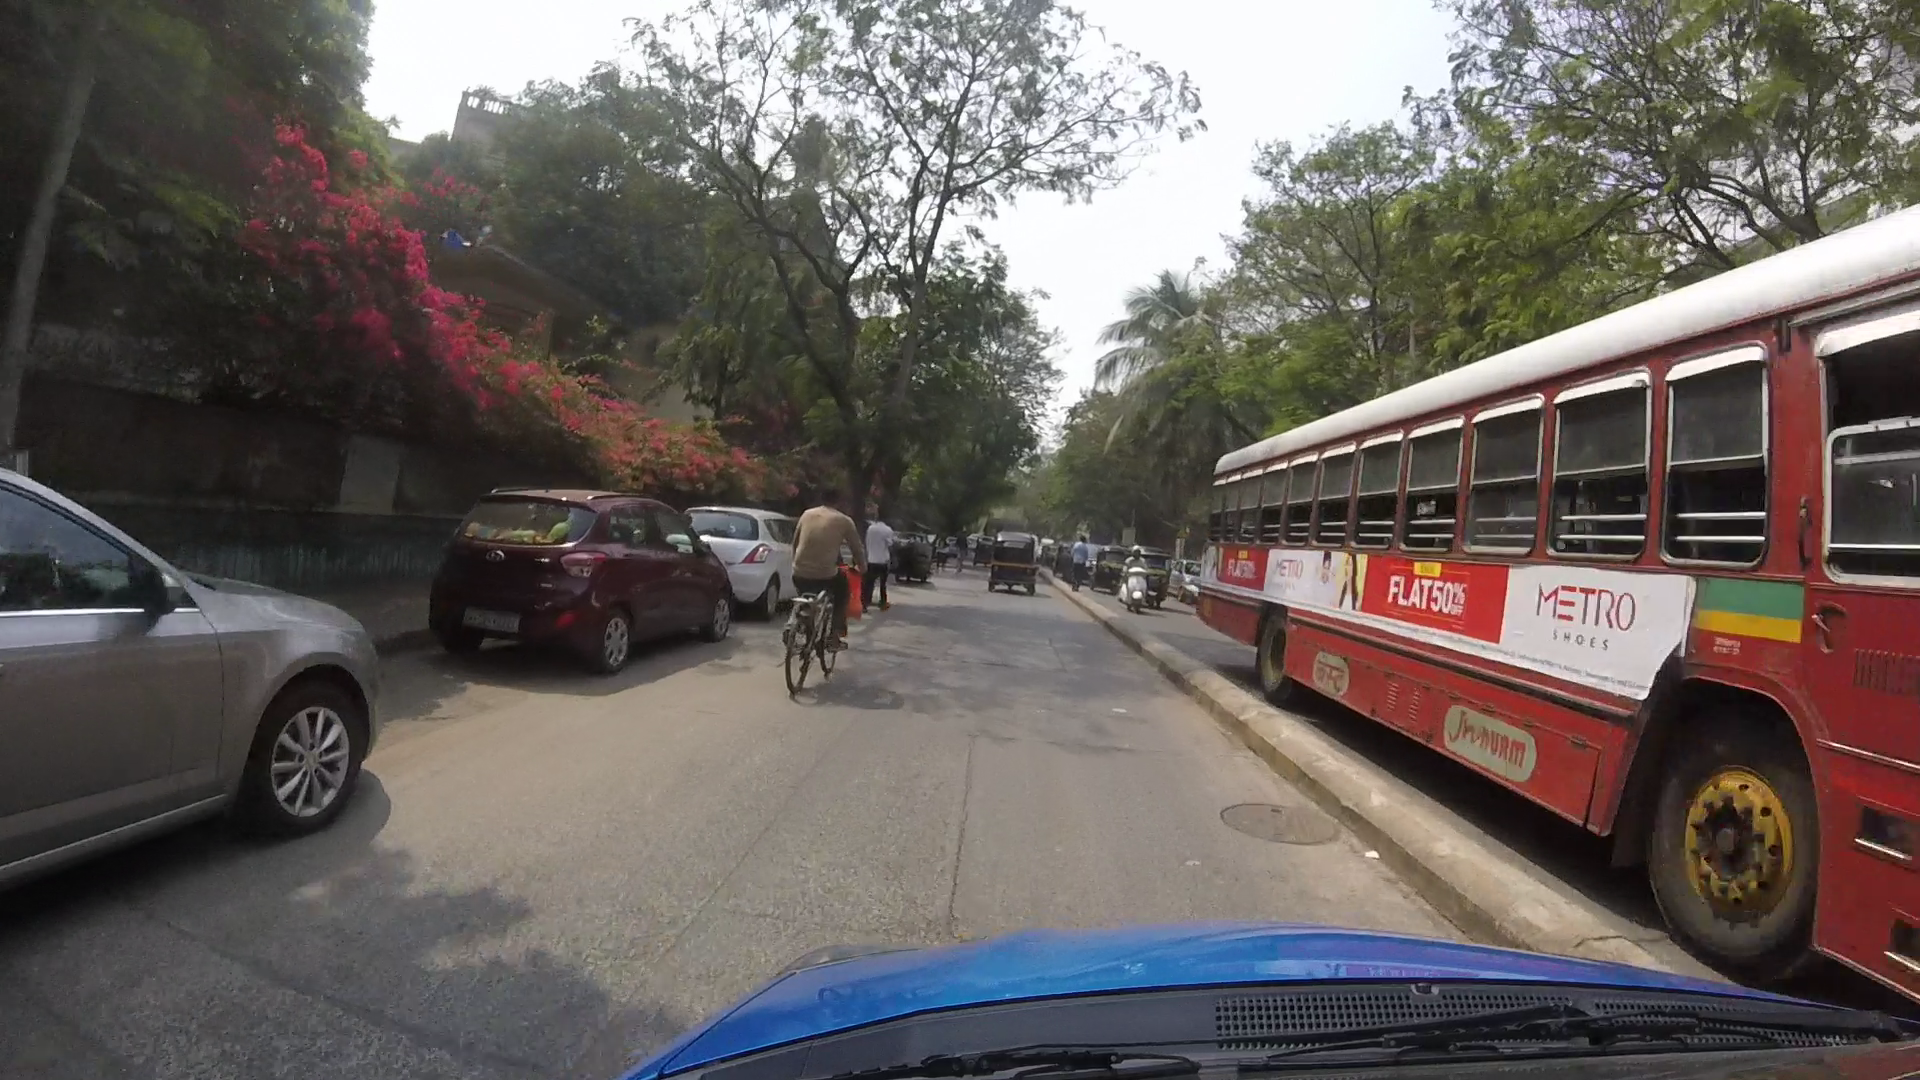bus: (1211, 204, 1920, 1002)
car: (11, 465, 372, 895), (443, 480, 735, 663), (694, 495, 802, 611)
rickshaw: (981, 522, 1034, 607)
